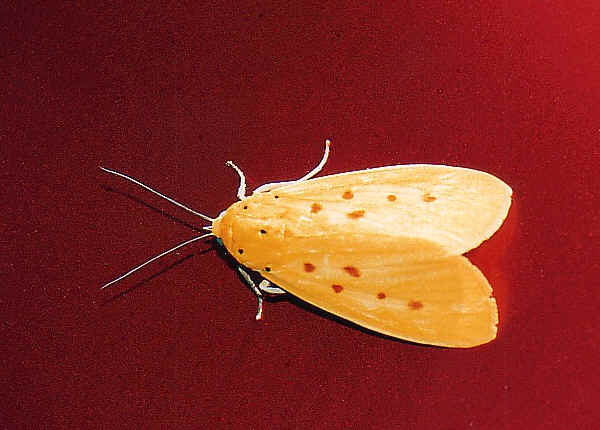Agape chloropyga: (89, 132, 517, 349)
moth: (91, 134, 519, 351)
